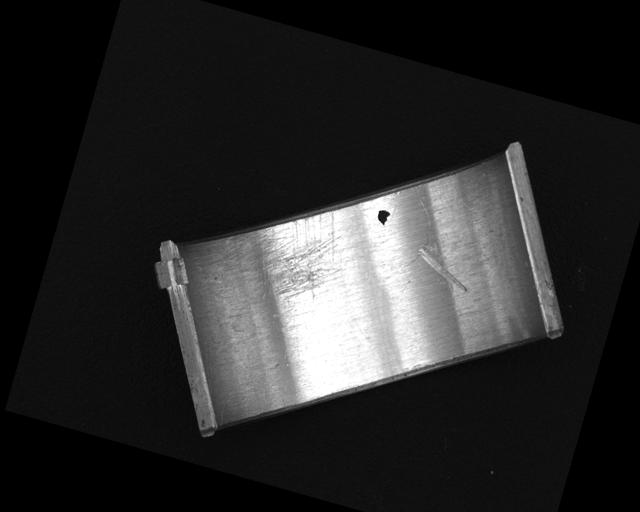blot: (374, 207, 391, 227)
nick: (410, 239, 478, 293), (398, 197, 439, 272)
scratch: (223, 185, 358, 313)
